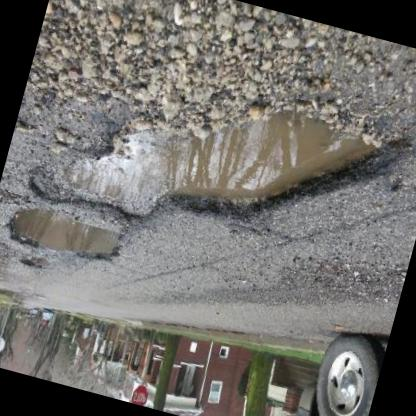pothole: (21, 35, 409, 288), (0, 198, 126, 273), (15, 252, 47, 275)
